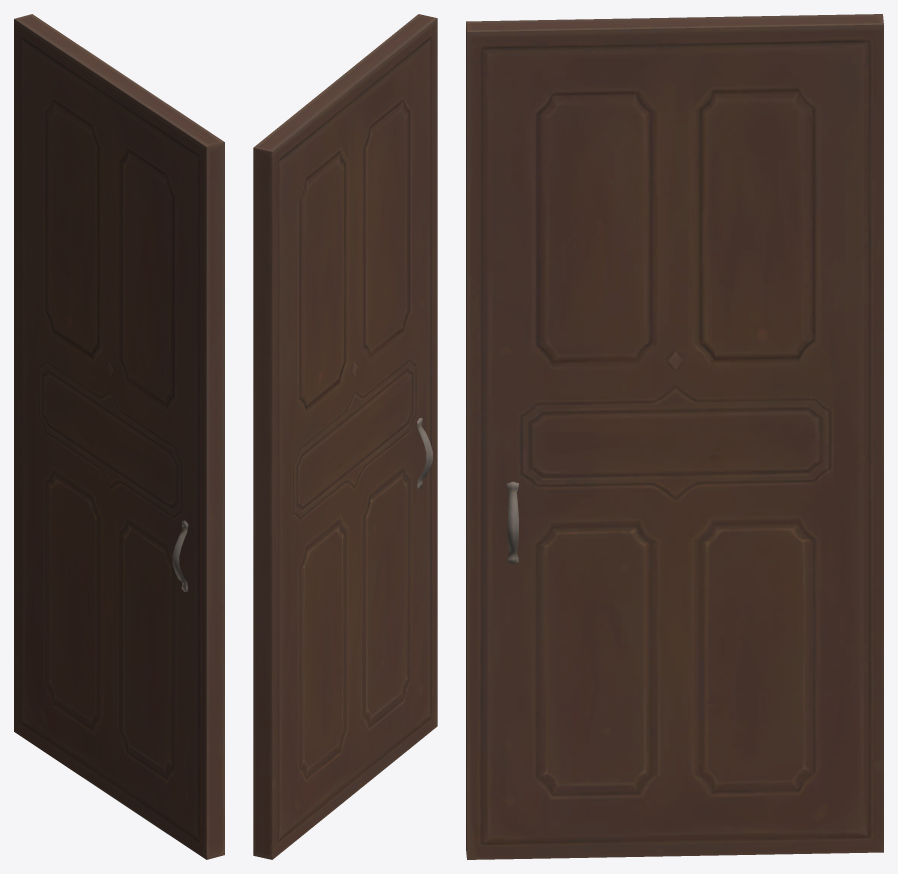
The model's file is Puerta.obj.
3 renders of one model, left to right at view 1: azimuth 30°, elevation 25°; view 2: azimuth 150°, elevation 25°; view 3: azimuth 270°, elevation 25°, orthographic. The views are drawn at different scales.
Parts seen in each view (by area): view 1: pasted__Indoor_MdProps_Knight_Door02_2_Vo_0 group1; view 2: pasted__Indoor_MdProps_Knight_Door02_2_Vo_0 group1; view 3: pasted__Indoor_MdProps_Knight_Door02_2_Vo_0 group1.
Boxes of the visible parts, left/top/right/bottom form: pasted__Indoor_MdProps_Knight_Door02_2_Vo_0 group1: left=14, top=14, right=224, bottom=859; pasted__Indoor_MdProps_Knight_Door02_2_Vo_0 group1: left=253, top=14, right=437, bottom=859; pasted__Indoor_MdProps_Knight_Door02_2_Vo_0 group1: left=466, top=14, right=883, bottom=859.
Bounding box in the file's own units: 0.203 × 3.04 × 1.39.
Materials: 1 (1 with a texture image).
